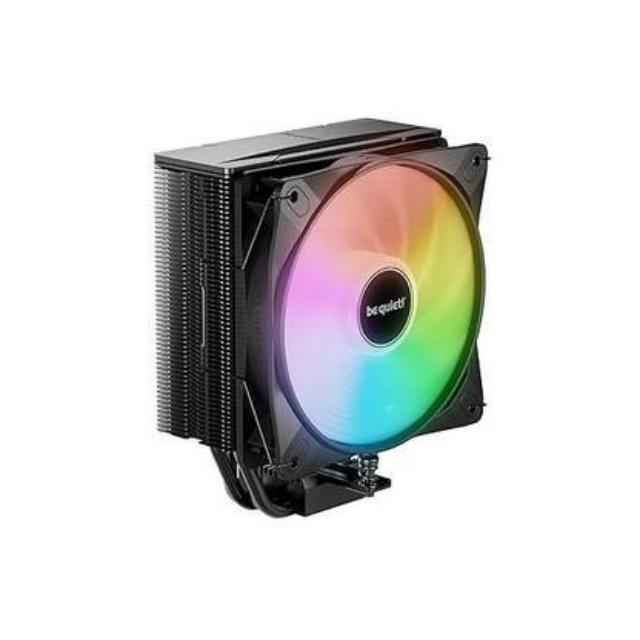CPU_Fan: (148, 118, 494, 518)
